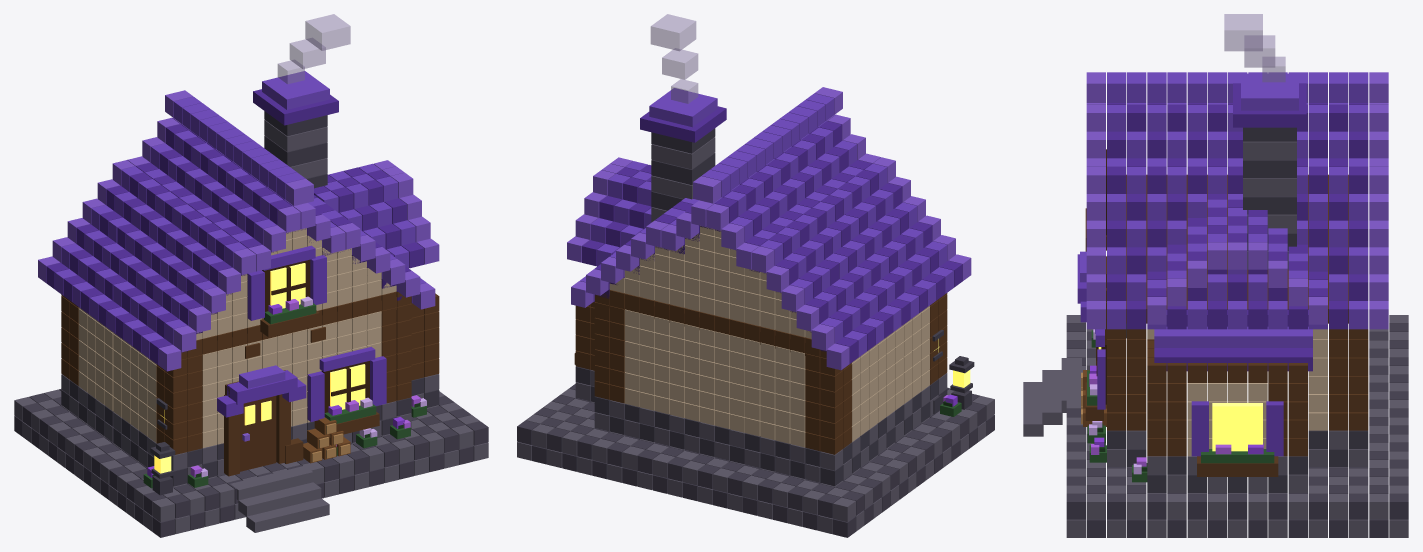
Rendered from cottage-violet.glb.
3 views of the same model, side by side, from view 1: azimuth 30°, elevation 25°; view 2: azimuth 150°, elevation 25°; view 3: azimuth 270°, elevation 25° (orthographic). The views are drawn at different scales.
Visible parts, largest first — view 1: roofLight, roof, plaster, beam, terrace, gold, terraceDark, shutter, stoneDark, stone, smoke, glass (+5 smaller); view 2: plaster, roofLight, roof, terrace, terraceDark, gold, beam, stoneDark, stone, smoke; view 3: roofLight, roof, beam, terrace, gold, terraceDark, stoneDark, stone, plaster, shutter, smoke, glass (+2 smaller).
Part boxes in pixels (box(x1,y1,x2,y2)): roofLight: box(55, 71, 426, 388); roof: box(46, 89, 424, 365); plaster: box(78, 228, 396, 447); beam: box(61, 291, 439, 476); terrace: box(14, 389, 488, 534); gold: box(38, 90, 439, 441); terraceDark: box(14, 389, 488, 537); shutter: box(217, 245, 386, 421); stoneDark: box(61, 111, 439, 495); stone: box(61, 120, 439, 475); smoke: box(277, 14, 350, 83); glass: box(244, 263, 365, 425); plaster: box(609, 225, 929, 447); roofLight: box(580, 88, 953, 357); roof: box(582, 106, 962, 363); terrace: box(517, 388, 994, 534); terraceDark: box(517, 384, 994, 537); gold: box(567, 87, 971, 370); beam: box(574, 290, 947, 454); stoneDark: box(575, 128, 974, 486); stone: box(575, 137, 947, 482); smoke: box(650, 14, 698, 103); roofLight: box(1080, 72, 1368, 347); roof: box(1107, 83, 1368, 371); beam: box(1085, 174, 1368, 476); terrace: box(1023, 315, 1408, 537); gold: box(1086, 72, 1388, 333); terraceDark: box(1066, 323, 1408, 537); stoneDark: box(1107, 127, 1368, 492); stone: box(1107, 141, 1368, 492); plaster: box(1147, 329, 1327, 456); shutter: box(1077, 254, 1283, 456); smoke: box(1224, 14, 1285, 82); glass: box(1098, 347, 1262, 451).
Size of the model in its own units: 3.18 by 3.71 by 2.77.
